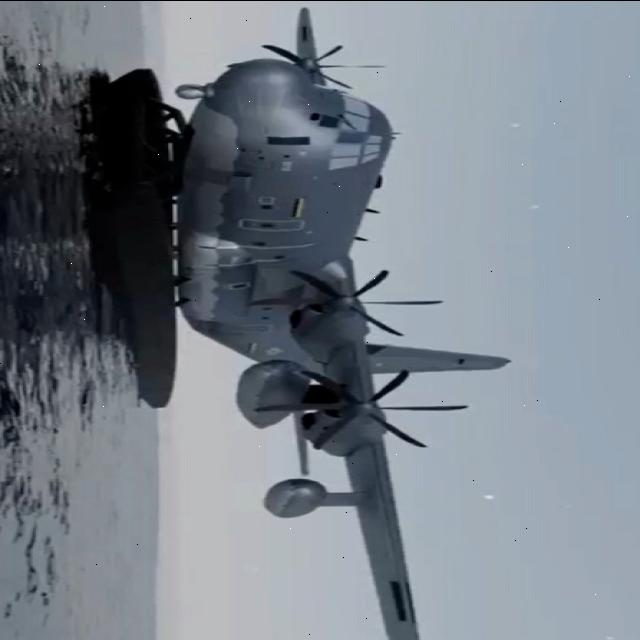C130: (136, 7, 605, 636)
